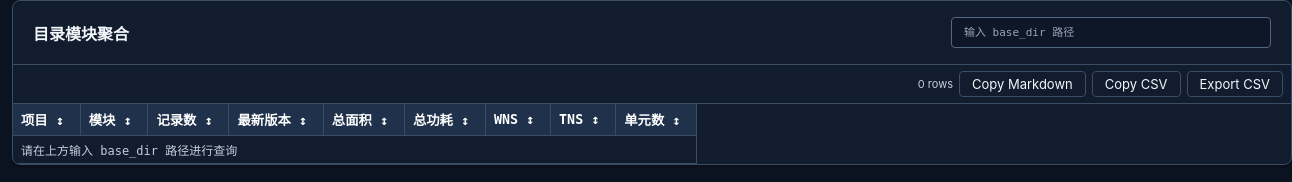
dashboard analytical tables › directory modules preserves prefix filtering through DataTable
This screenshot has width=1292, height=182.
Type "/work/regr_a" into the field with placeholder "输入 base_dir 路径" at (1111, 32), box x1=951 y1=17 x2=1271 y2=48
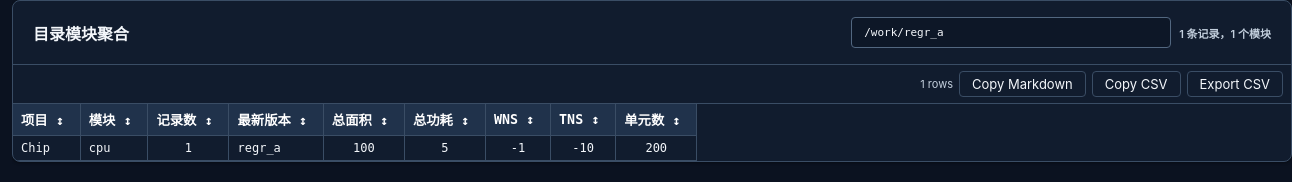
Check: the table with class "data-table" is shown, box x1=13 y1=104 x2=697 y2=161
Check: the text "regr_a" is shown, box x1=229 y1=136 x2=323 y2=160
